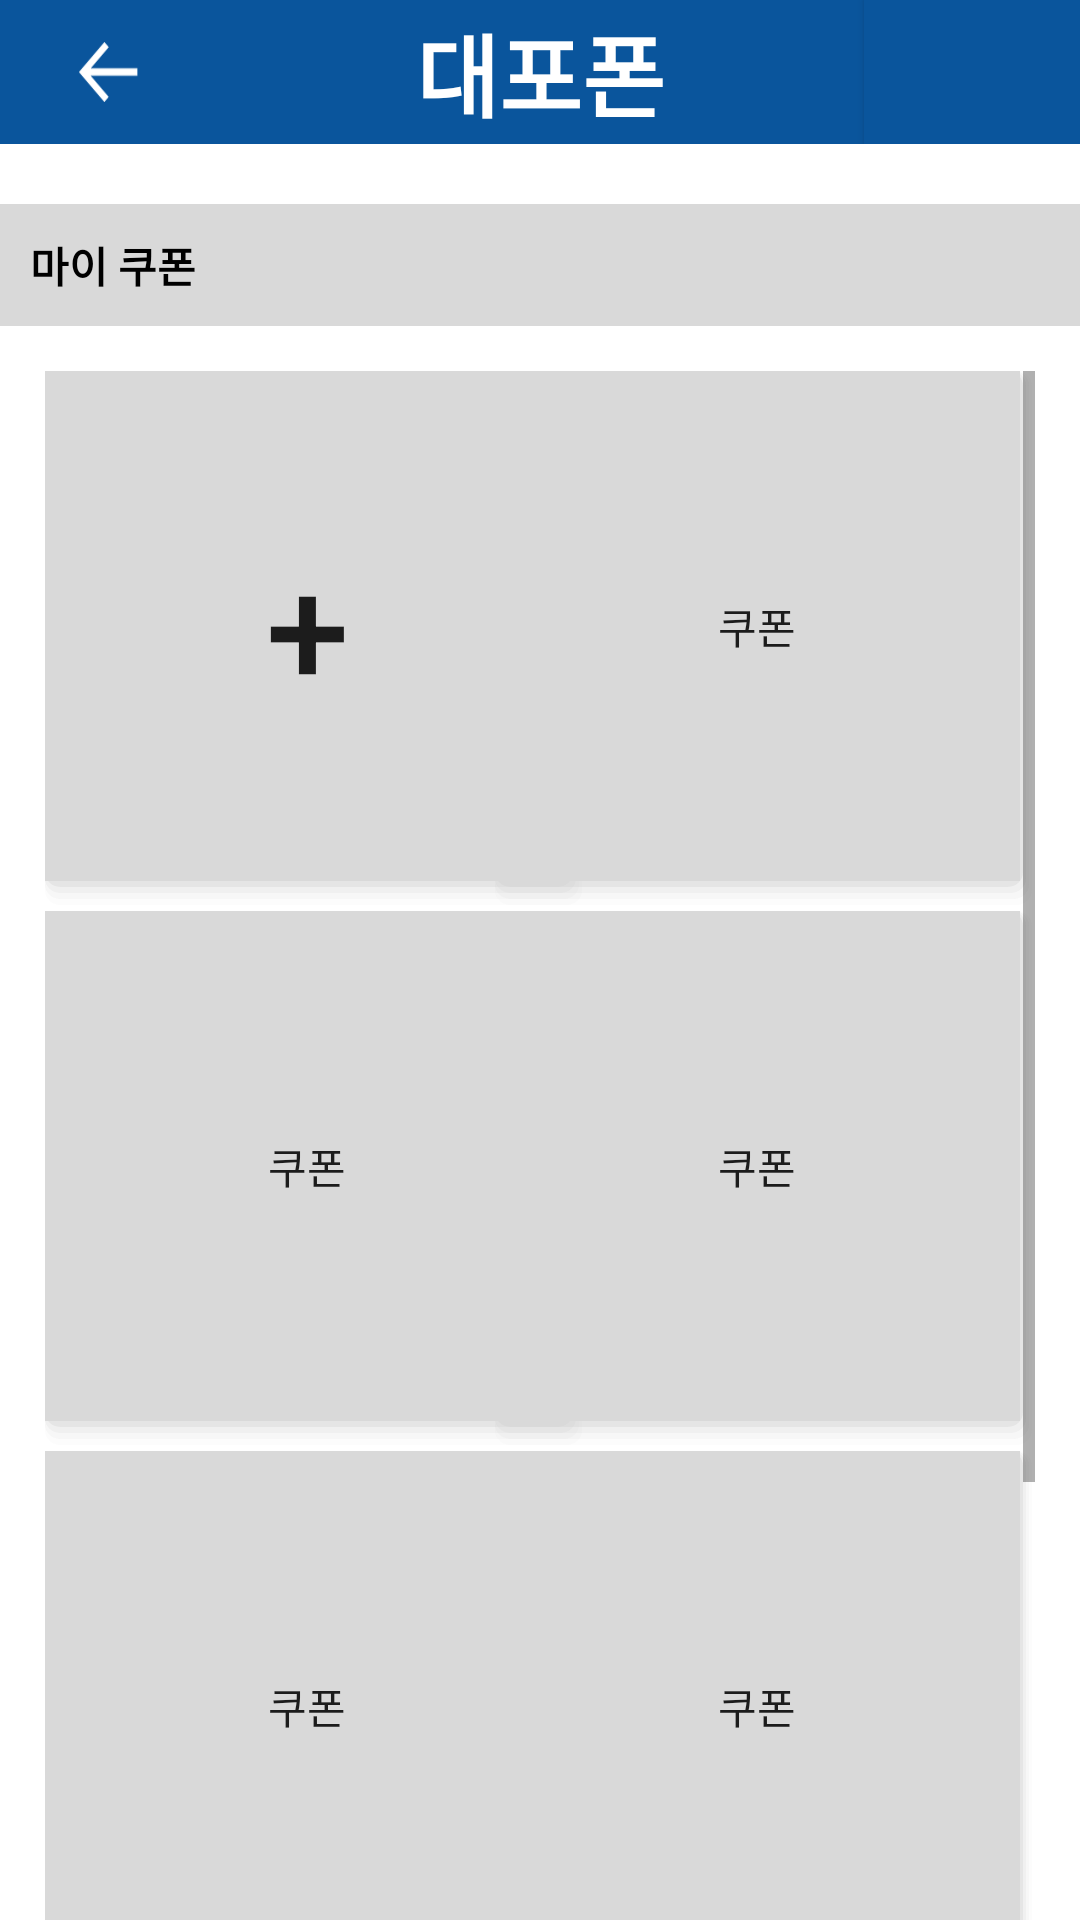

Named icons in this screenshot (1080×1920) and their centers, (x,y):
back arrow resize: (108,72)
